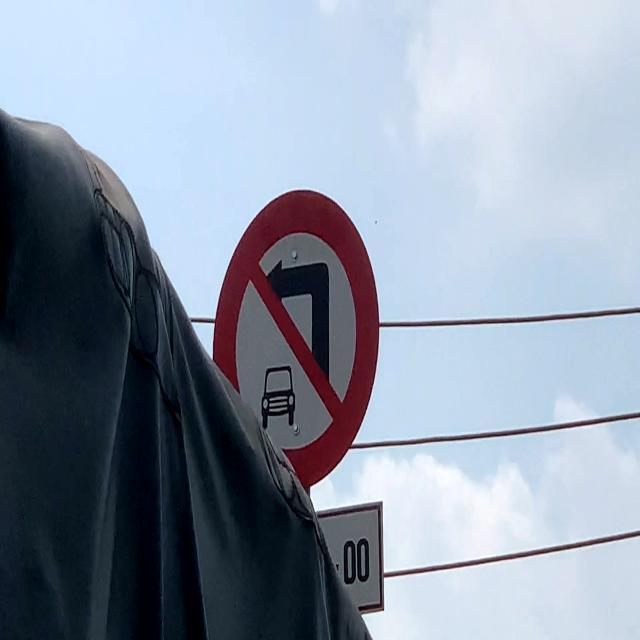123a-cam-re-trai: (207, 190, 381, 480)
